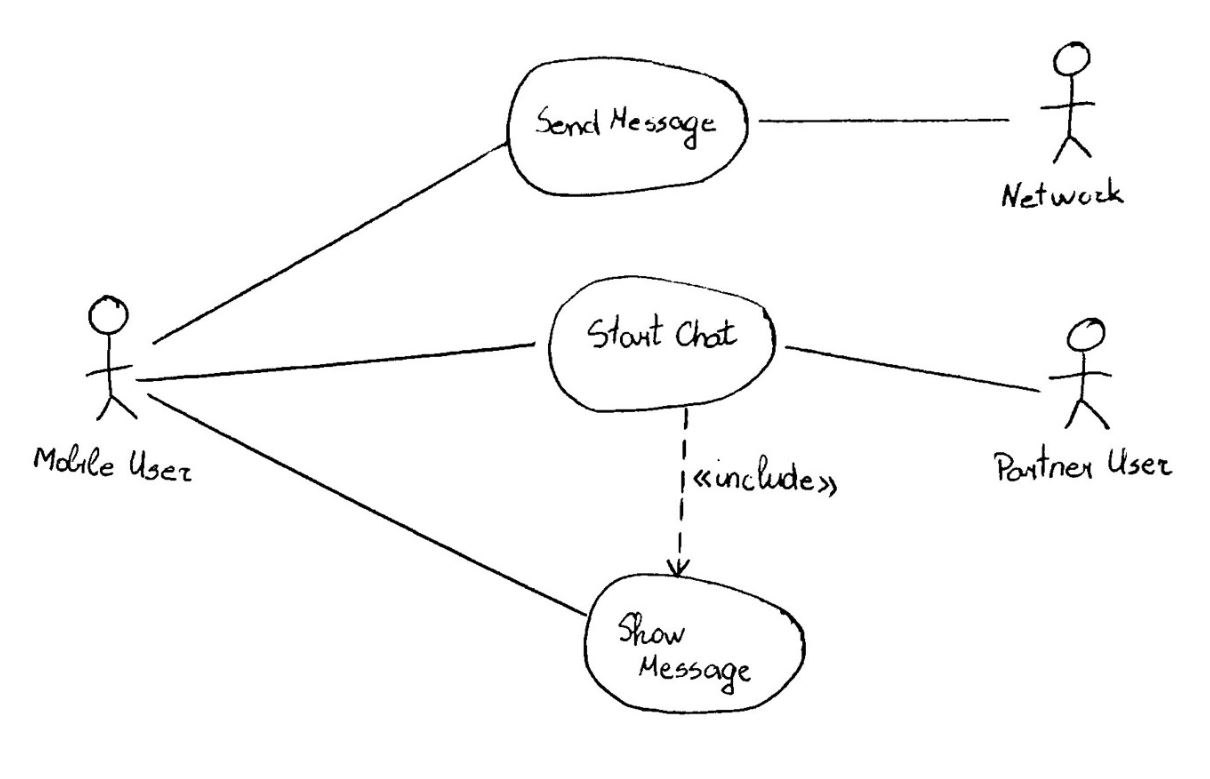actor: (1044, 315, 1126, 435), (82, 289, 147, 427), (1039, 29, 1101, 165)
association: (145, 390, 589, 616), (154, 137, 507, 347), (136, 338, 537, 385), (785, 340, 1037, 395), (756, 100, 1010, 138), (663, 411, 708, 575)
text: (620, 607, 753, 696), (536, 92, 724, 154), (24, 436, 199, 496), (979, 438, 1189, 488), (581, 303, 741, 365), (690, 453, 853, 502), (1002, 175, 1133, 217)
use_case: (506, 55, 751, 198), (581, 572, 806, 716), (546, 275, 777, 414)
